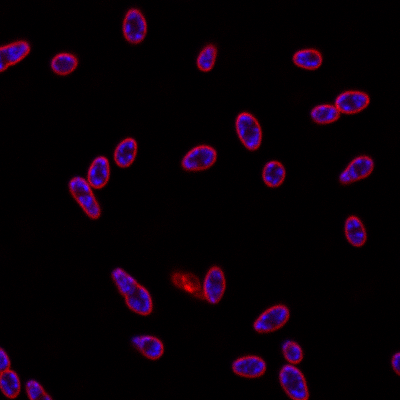Mecillinam: (111, 264, 153, 317), (67, 173, 102, 221), (233, 110, 264, 151), (278, 363, 311, 400), (252, 303, 291, 333), (180, 142, 219, 172), (202, 262, 227, 305), (121, 7, 148, 45), (85, 154, 112, 189), (231, 354, 267, 379), (113, 136, 139, 169), (335, 90, 370, 114), (342, 215, 367, 248), (289, 47, 322, 71), (50, 50, 78, 77), (261, 160, 286, 188)
Oblique: (334, 154, 375, 186), (127, 332, 164, 361), (308, 103, 342, 124), (280, 338, 307, 364), (194, 43, 219, 71)
